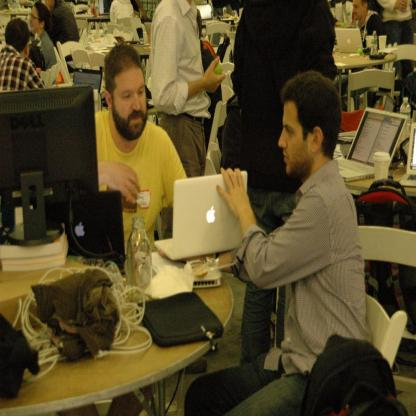board: (164, 174, 248, 272), (46, 190, 126, 275), (338, 108, 408, 181), (128, 216, 152, 300), (400, 122, 416, 186), (74, 68, 102, 93), (334, 29, 364, 52), (400, 97, 411, 126), (371, 30, 378, 56)
